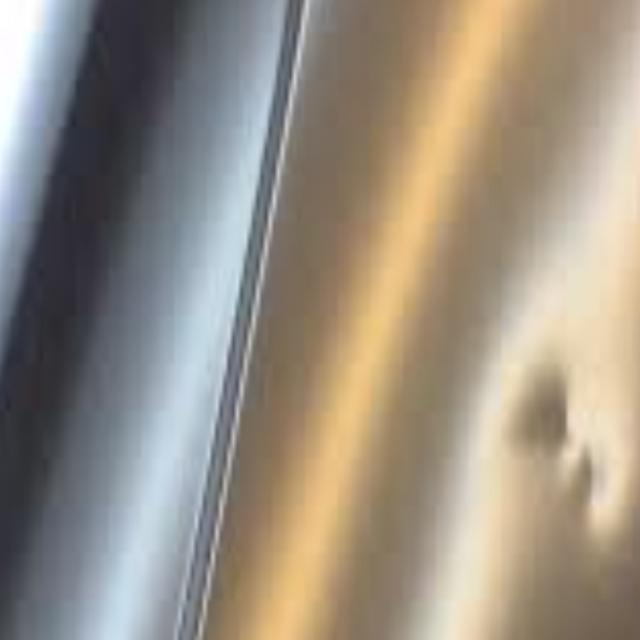dents: (512, 332, 620, 548)
